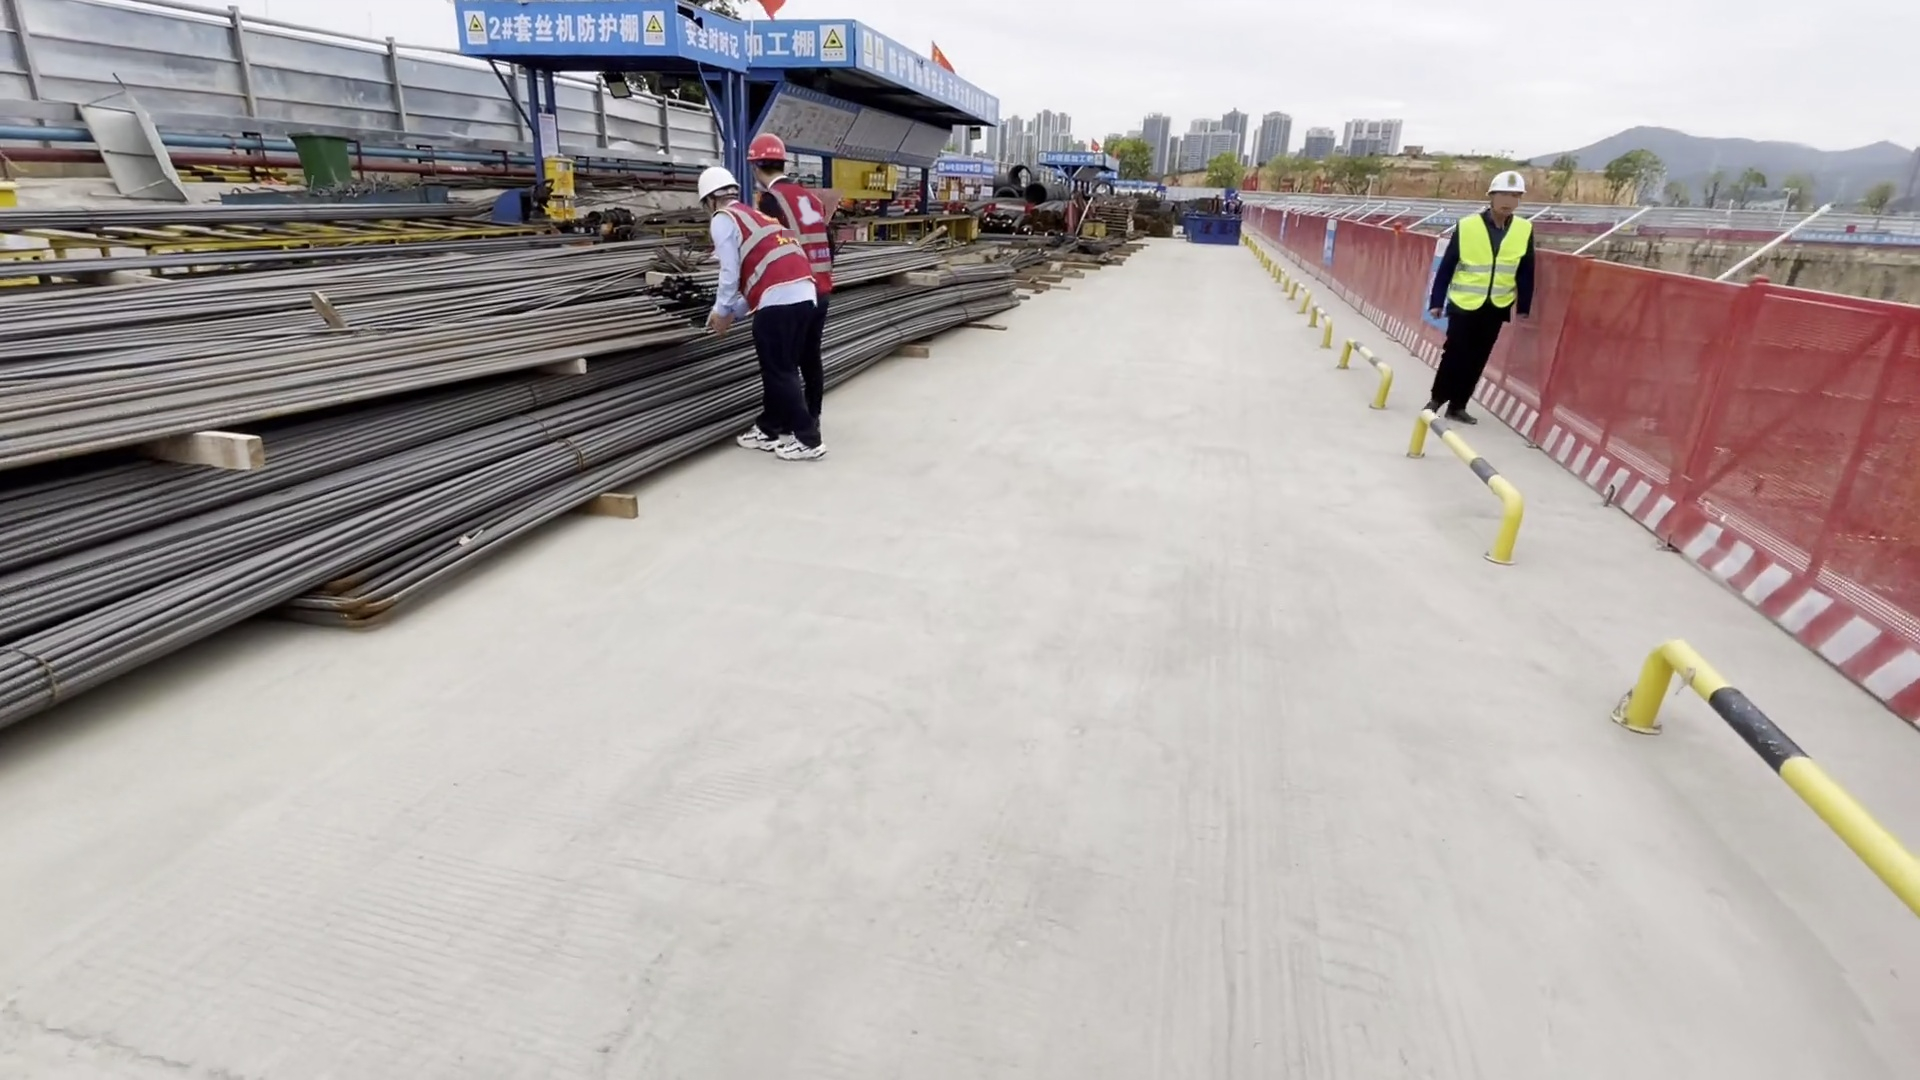ebox: (545, 152, 582, 216), (857, 162, 900, 193)
fence: (1520, 262, 1920, 729), (1236, 197, 1446, 361)
helmet: (745, 131, 788, 162), (696, 165, 735, 197), (1483, 167, 1524, 192)
hopper: (1184, 213, 1239, 244)
person: (705, 173, 814, 450), (1438, 168, 1518, 441), (764, 136, 832, 429)
rebar: (1, 230, 1022, 758)
slogan: (740, 27, 977, 173)
vest: (712, 204, 812, 302), (775, 180, 844, 294), (1450, 214, 1528, 314)
